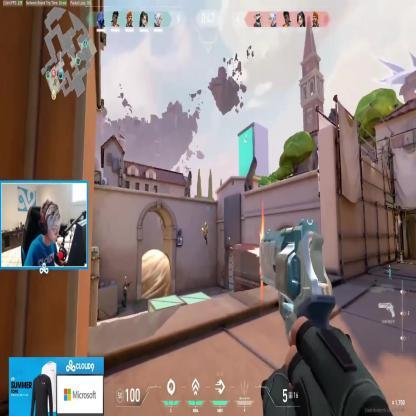enemy: (203, 222, 208, 244)
enemy_head: (204, 221, 207, 226)
